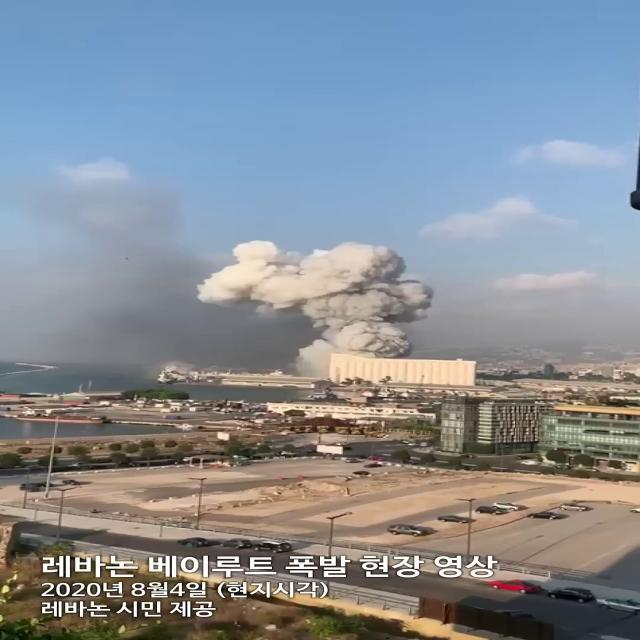explosion: (148, 182, 449, 400)
